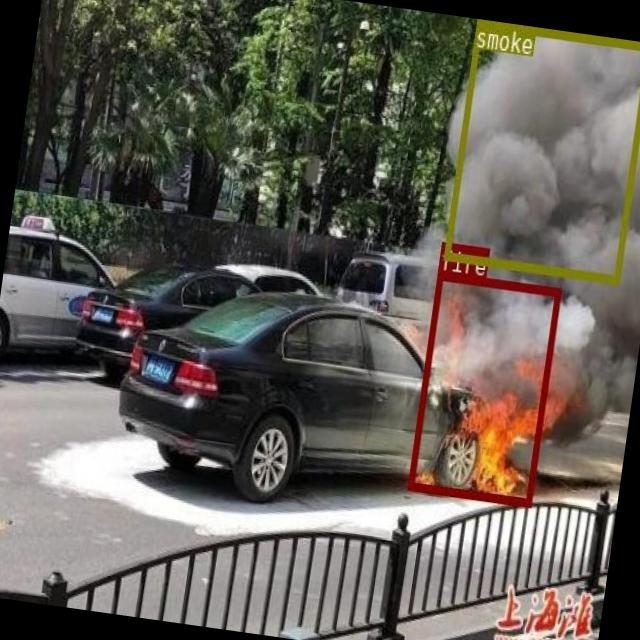fire: (406, 270, 560, 505)
smoke: (441, 19, 640, 283)
